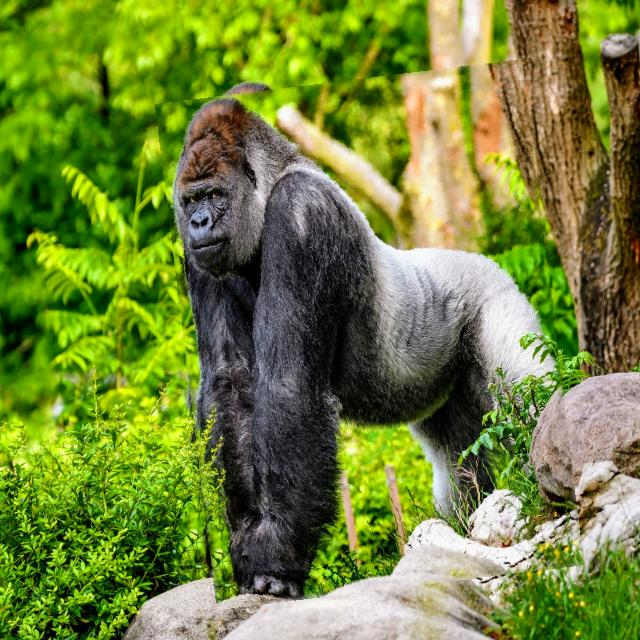gorila: (170, 70, 570, 600)
